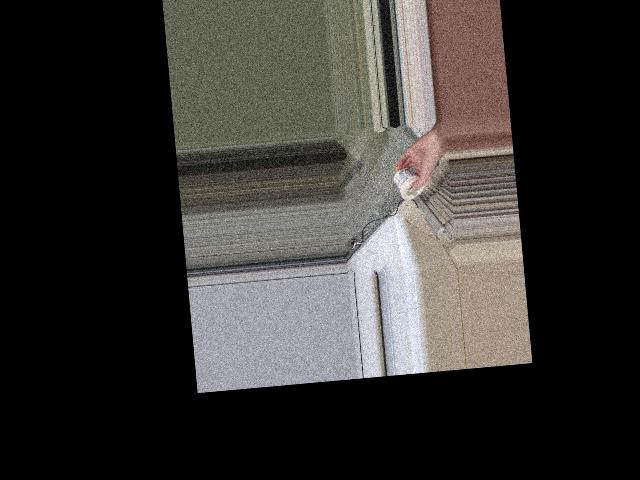cotage: (392, 164, 424, 199)
